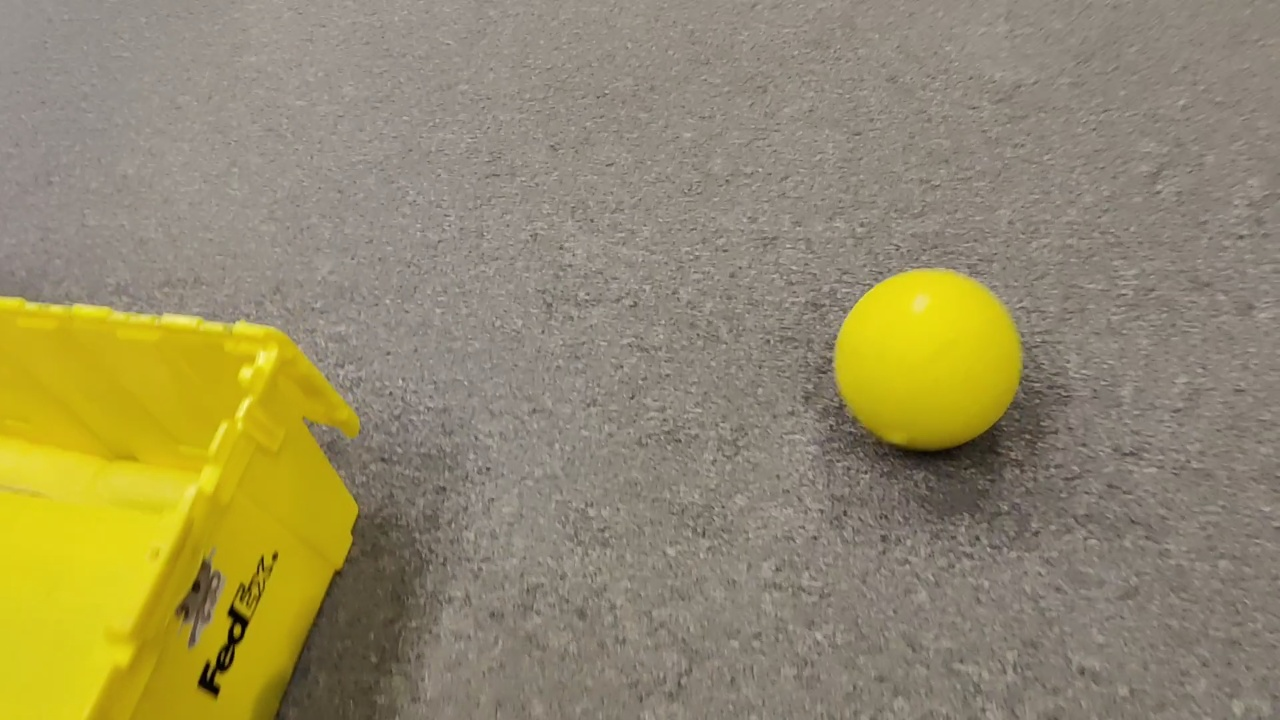Ball: (833, 269, 1023, 453)
